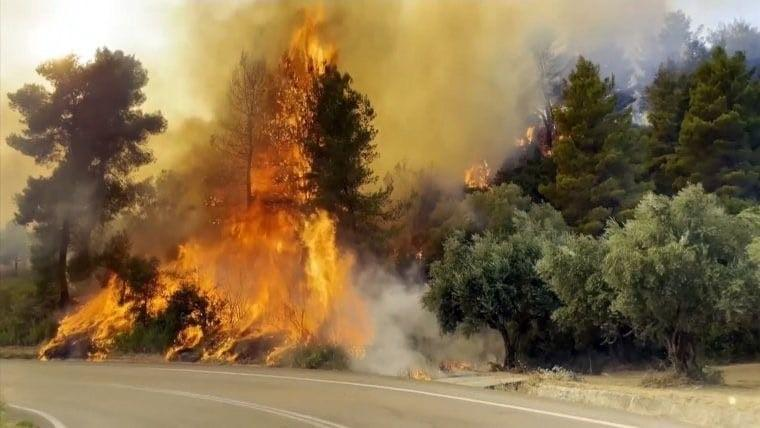fire: (19, 26, 370, 397), (513, 119, 574, 165), (456, 156, 497, 192)
smoke: (558, 0, 680, 138), (362, 266, 497, 383)
